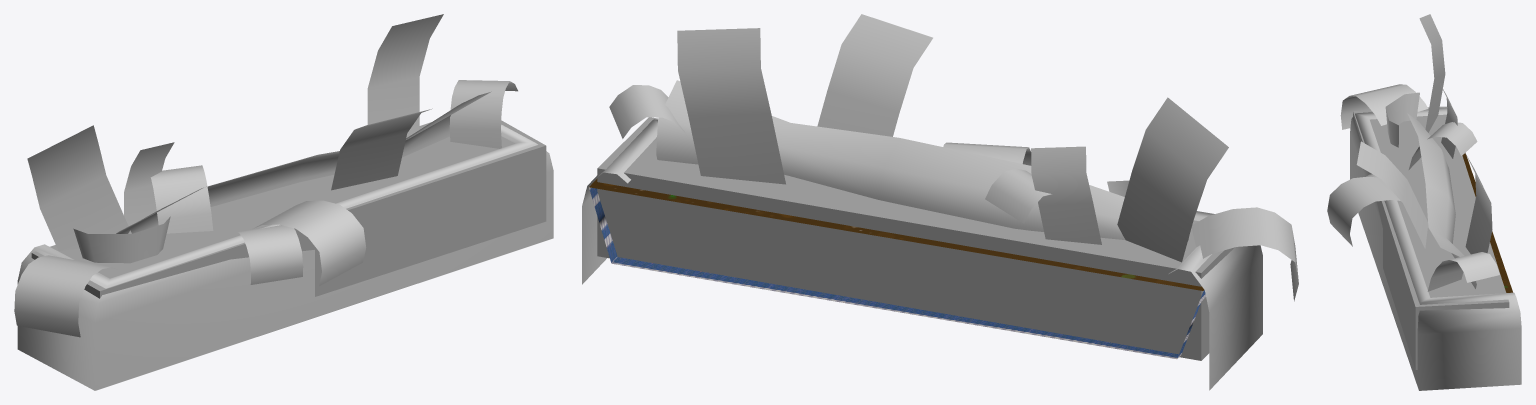
Rendered from planter.fbx.
3 views of the same model, side by side, from view 1: azimuth 30°, elevation 25°; view 2: azimuth 150°, elevation 25°; view 3: azimuth 270°, elevation 25° (orthographic). The views are drawn at different scales.
Visible parts, largest first — view 1: pCube192, pCube198; view 2: pCube192, pCube198; view 3: pCube192, pCube198.
Part boxes in pixels (x1,y1,x2,y2): pCube192: (14, 14, 553, 390); pCube198: (31, 120, 546, 298); pCube192: (582, 14, 1298, 390); pCube198: (597, 117, 1234, 360); pCube192: (1327, 14, 1521, 390); pCube198: (1353, 106, 1509, 369).
Size of the model in its own units: 0.0605 by 0.0234 by 0.0221.
